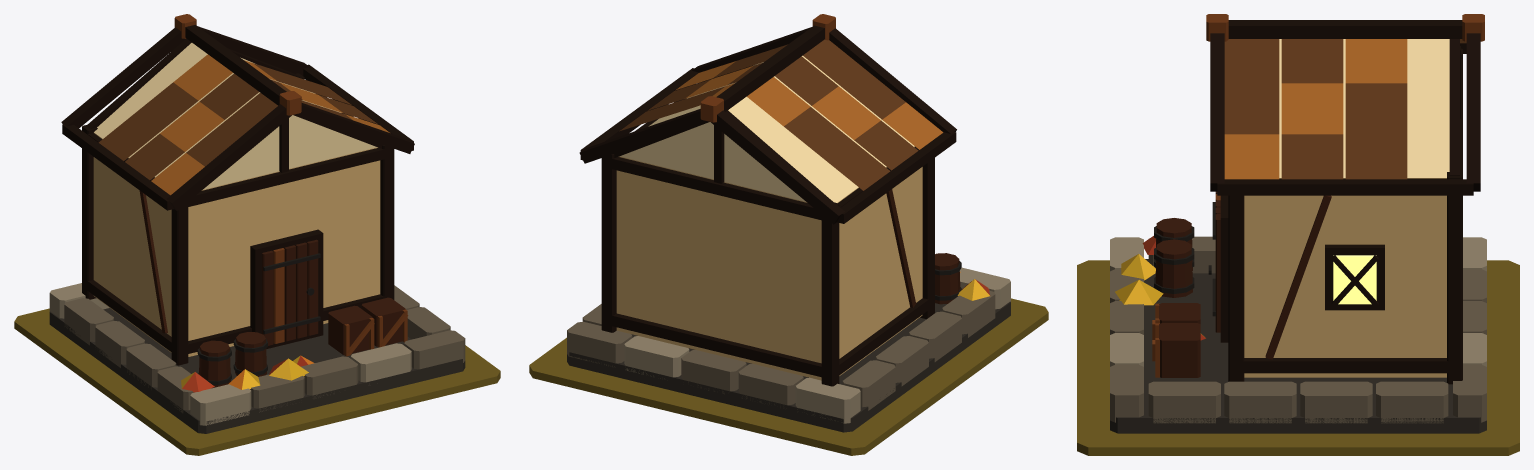
File: storehouse_t2.glb
3 renders of one model, left to right at view 1: azimuth 30°, elevation 25°; view 2: azimuth 150°, elevation 25°; view 3: azimuth 270°, elevation 25°, orthographic. The views are drawn at different scales.
Visible parts, largest first — view 1: MMR | storehouse | T02 Architecture.001, MMR | storehouse | Tier 02 Ground.001, MMR | storehouse | T02 Autumn Dressing.001; view 2: MMR | storehouse | T02 Architecture.001, MMR | storehouse | Tier 02 Ground.001; view 3: MMR | storehouse | T02 Architecture.001, MMR | storehouse | Tier 02 Ground.001, MMR | storehouse | T02 Autumn Dressing.001.
Part boxes in pixels (<box>): MMR | storehouse | T02 Architecture.001: <box>49,14,465,433</box>; MMR | storehouse | Tier 02 Ground.001: <box>14,308,500,455</box>; MMR | storehouse | T02 Autumn Dressing.001: <box>181,355,314,392</box>; MMR | storehouse | T02 Architecture.001: <box>567,14,1010,432</box>; MMR | storehouse | Tier 02 Ground.001: <box>529,298,1048,455</box>; MMR | storehouse | T02 Architecture.001: <box>1110,14,1486,433</box>; MMR | storehouse | Tier 02 Ground.001: <box>1077,260,1519,455</box>; MMR | storehouse | T02 Autumn Dressing.001: <box>1115,236,1205,340</box>.
Size of the model in its own units: 2.35 by 2.02 by 2.35.
Materials: 2 (1 with a texture image).
